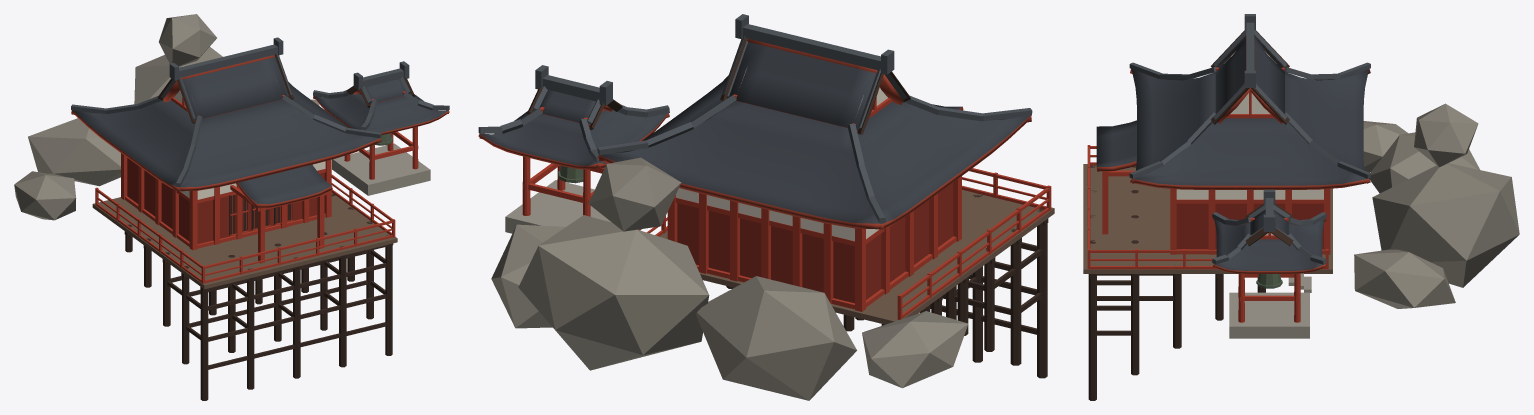
The model's file is senkoji.glb.
3 renders of one model, left to right at view 1: azimuth 30°, elevation 25°; view 2: azimuth 150°, elevation 25°; view 3: azimuth 270°, elevation 25°, orthographic. The views are drawn at different scales.
Parts seen in each view (by area): view 1: senkoji_hondo; view 2: senkoji_hondo; view 3: senkoji_hondo.
Part boxes in pixels (x1,y1,x2,y2): senkoji_hondo: (14, 14, 449, 400); senkoji_hondo: (478, 14, 1054, 400); senkoji_hondo: (1083, 14, 1519, 400).
Bounding box in the file's own units: 24.22 × 17.55 × 22.73.
